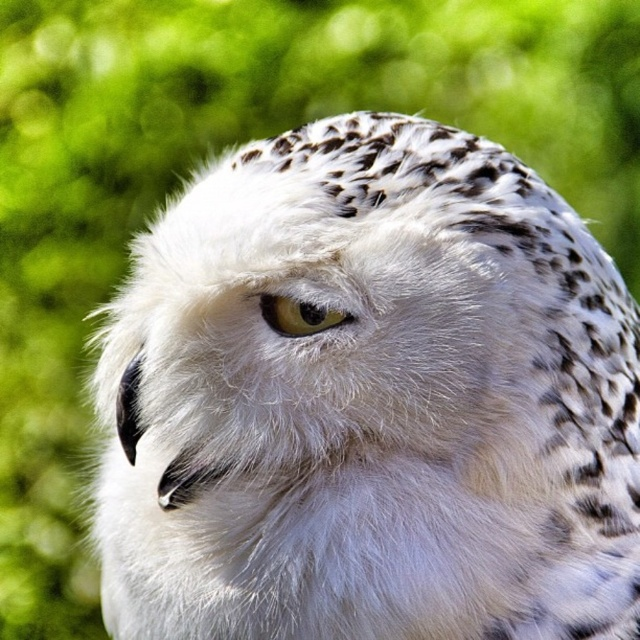Owl: (75, 111, 639, 639)
